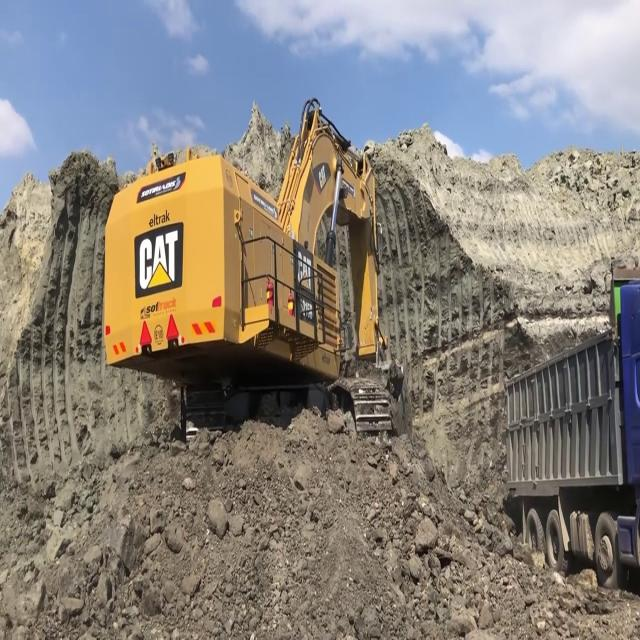excavator: (99, 99, 396, 430)
